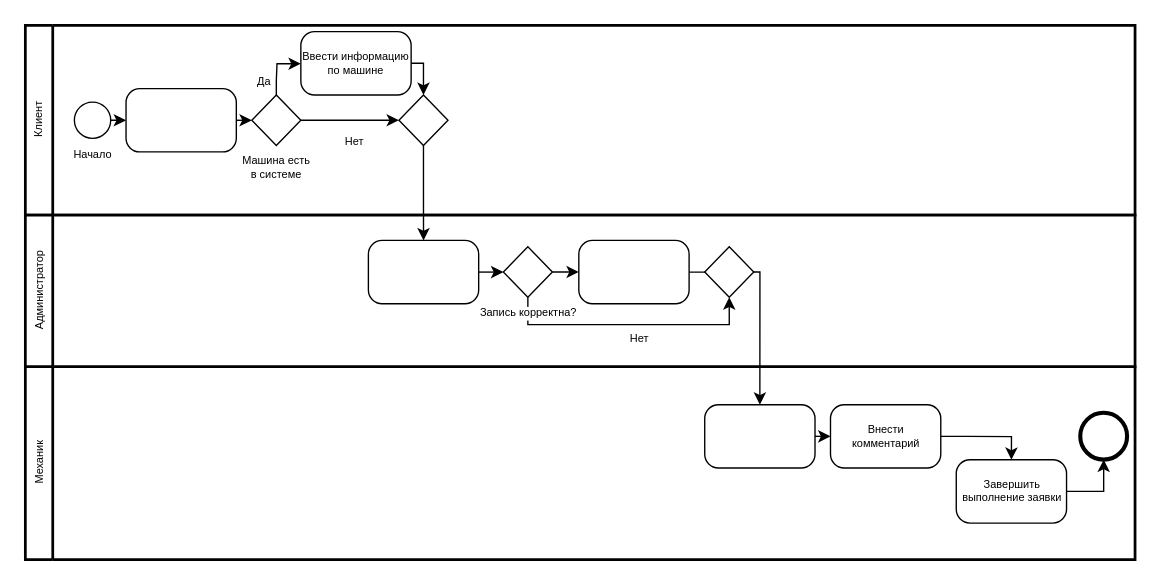
This 1159x584 diagram has some shape labels left out. The shapes that lost their labels are listed below. From the top down, each one's centre as x and y in pixels, then its label:
point (180, 119): Заполнить заявку на услугу
point (423, 271): Просмотрть информацию по заявке
point (633, 271): Скорректировать информацию в заявке
point (759, 435): Посмотреть информацию по заявке
